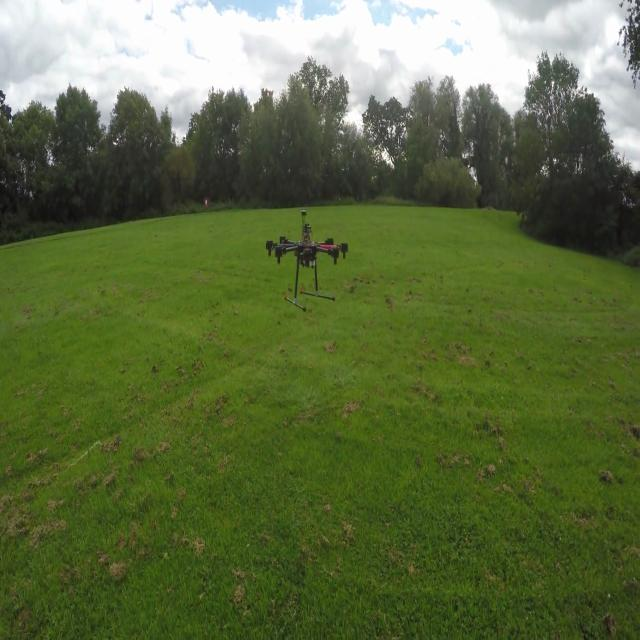drone: (234, 201, 360, 324)
